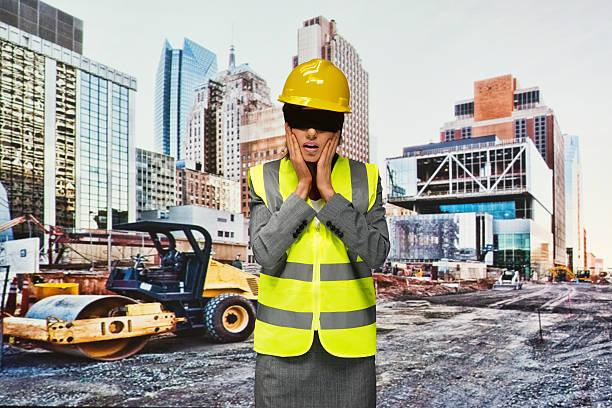goggle: (275, 107, 348, 133)
helmet: (273, 50, 361, 118)
vest: (236, 153, 391, 367)
